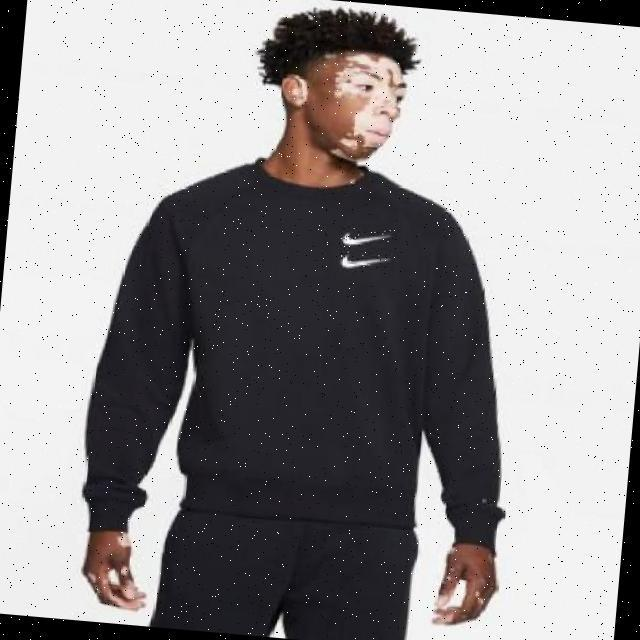Nike: (339, 226, 391, 245), (338, 250, 387, 270)
